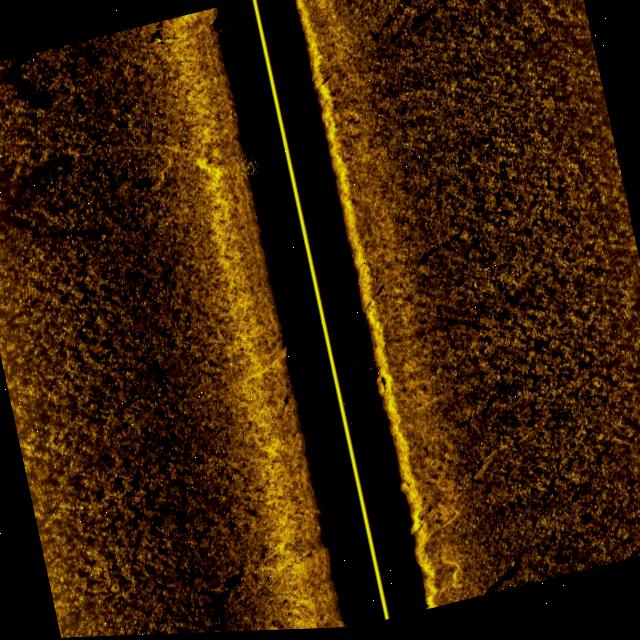other: (375, 372, 403, 406)
